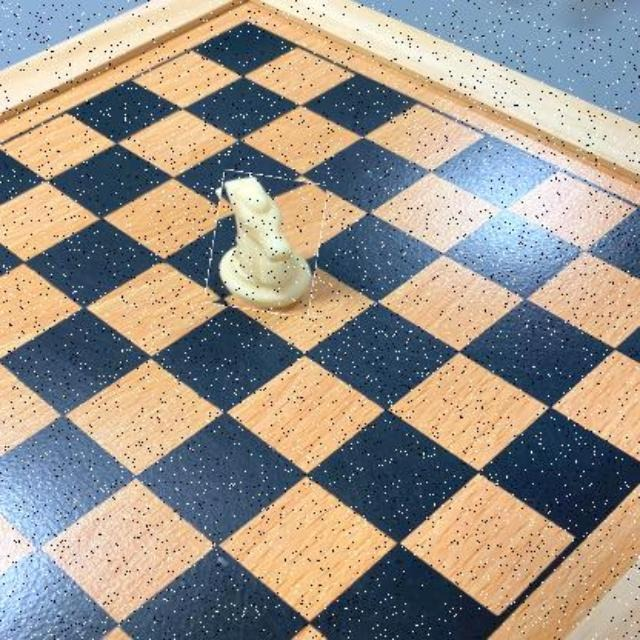white-knight: (210, 174, 322, 314)
